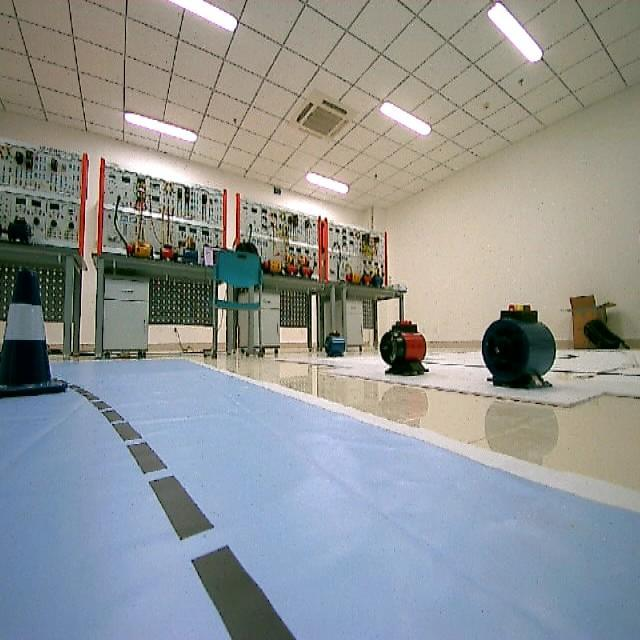obstacle: (0, 266, 80, 410)
